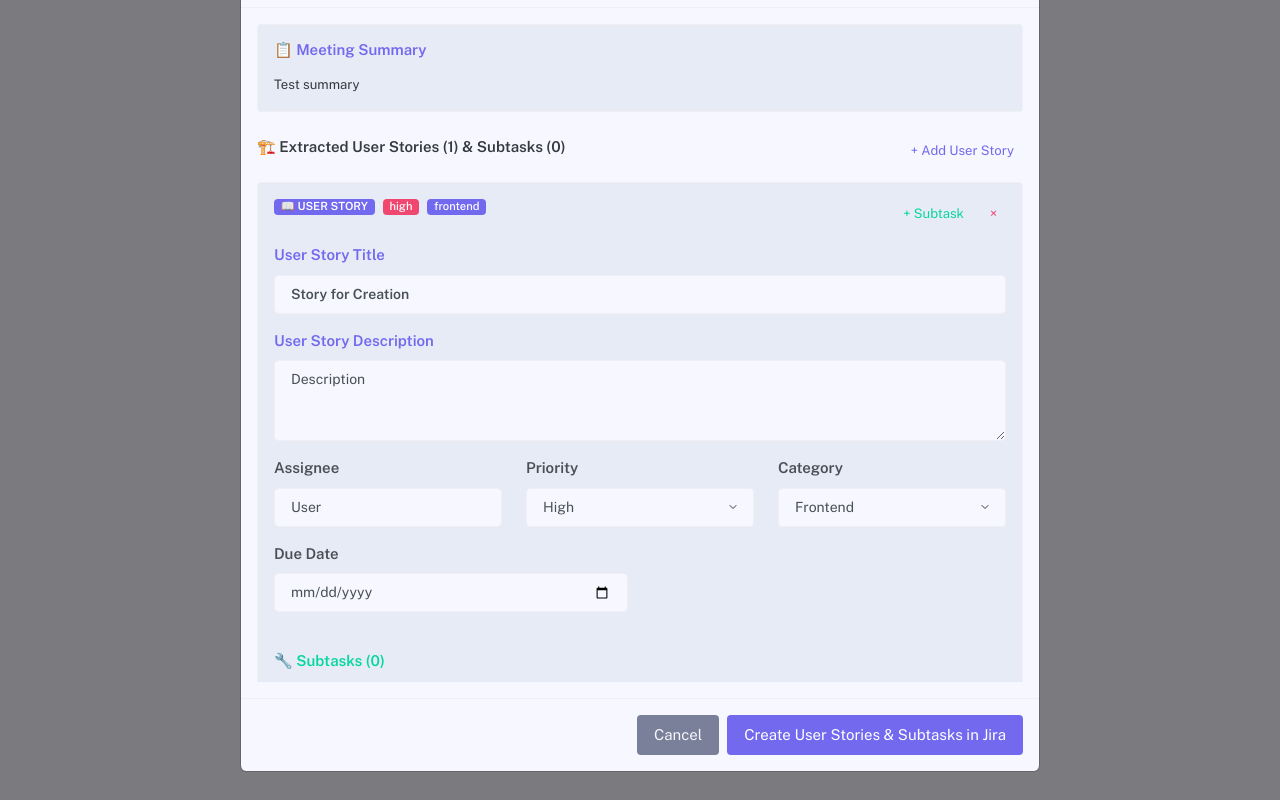
TaskAnalysisModal Component › Jira Task Creation › successfully creates Jira tasks
(page scrolled)
Expected: the field showing "Story for Creation" below "User Story Title" is shown, [274,275,1006,314]
Click the button "Create User Stories & Subtasks in Jira" at [875, 735], box [727,714,1023,755]
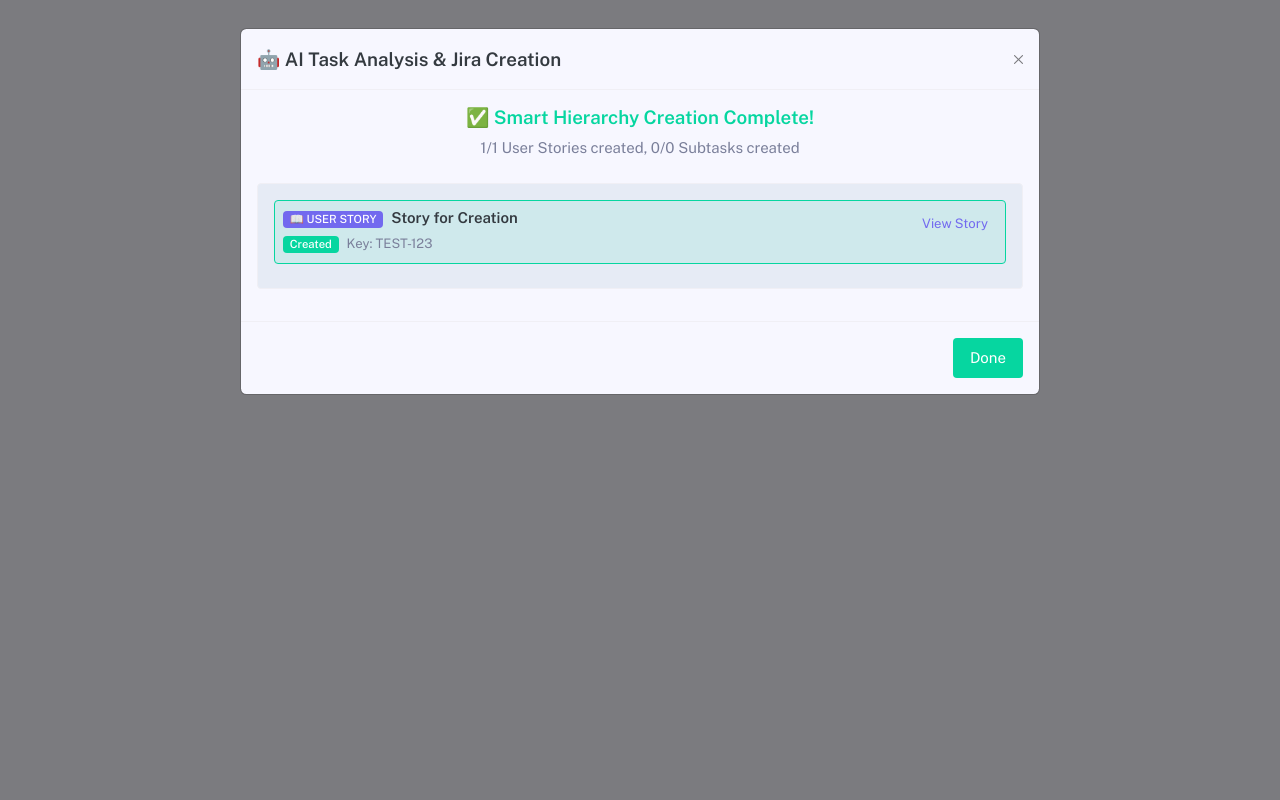
Result: the heading "✅ Smart Hierarchy Creation Complete!" is shown at [466,106,814,128]
Result: the text "1/1 User Stories created, 0/0 Subtasks created" is shown at [480,139,800,156]
Result: the text "Key: TEST-123" is shown at [347,236,432,251]
